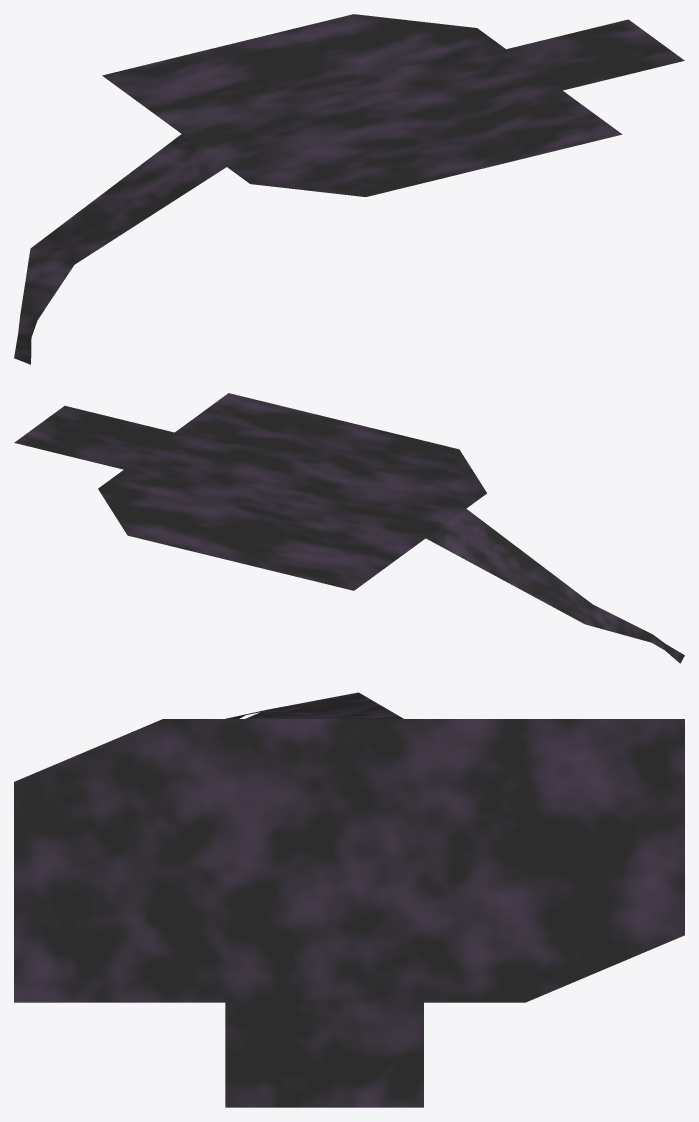
The model's file is Level2-3Floor.glb.
3 renders of one model, top to bottom at view 1: azimuth 30°, elevation 25°; view 2: azimuth 150°, elevation 25°; view 3: azimuth 270°, elevation 25°, orthographic. The views are drawn at different scales.
Parts seen in each view (by area): view 1: Layout-colonly; view 2: Layout-colonly; view 3: Layout-colonly.
Boxes of the visible parts, x1,y1,x2,y2 form: Layout-colonly: [14, 14, 684, 364]; Layout-colonly: [14, 393, 684, 663]; Layout-colonly: [14, 692, 684, 1107].
Size of the model in its own units: 111 by 19.84 by 54.
1 material, 1 textured.
